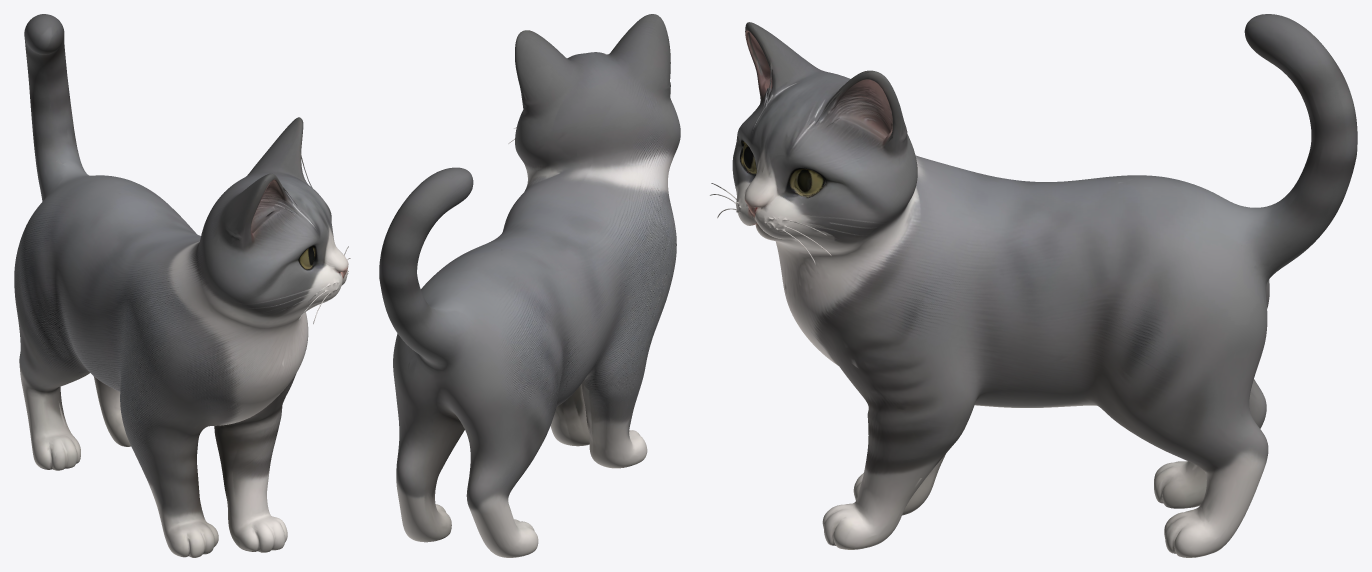
Rendered from cat-1.glb.
3 views of the same model, side by side, from view 1: azimuth 30°, elevation 25°; view 2: azimuth 150°, elevation 25°; view 3: azimuth 270°, elevation 25° (orthographic). The views are drawn at different scales.
Visible parts, largest first — view 1: node_0; view 2: node_0; view 3: node_0.
Part boxes in pixels (x1,y1,x2,y2): node_0: (14, 14, 350, 557); node_0: (379, 14, 680, 557); node_0: (709, 14, 1357, 557).
Size of the model in its own units: 0.3902 by 0.8244 by 0.9755.
Materials: 1 (1 with a texture image).
